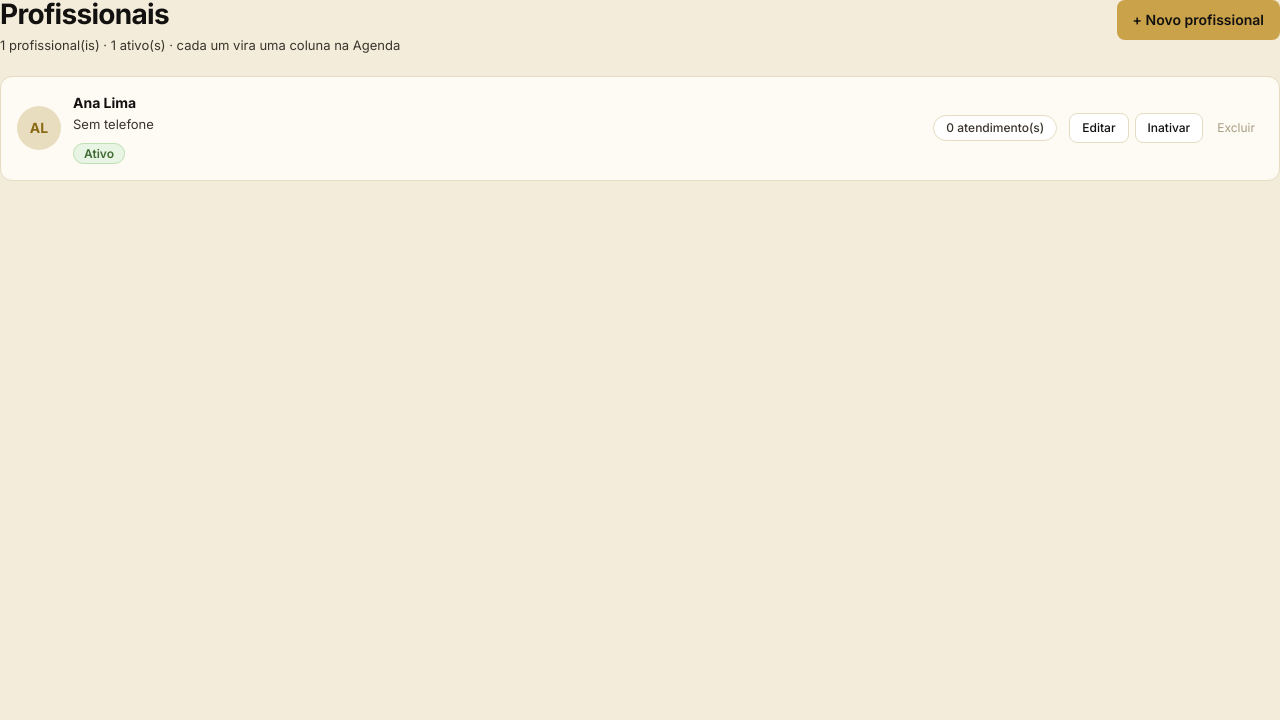
Test: Exclusão de profissional — ID exato e configuração de comissão › profissional com configuração de comissão não é excluído
The image size is (1280, 720).
Step 1. Click the button with aria-label "Excluir Ana Lima" → (1236, 128), box [1209,113,1263,143]
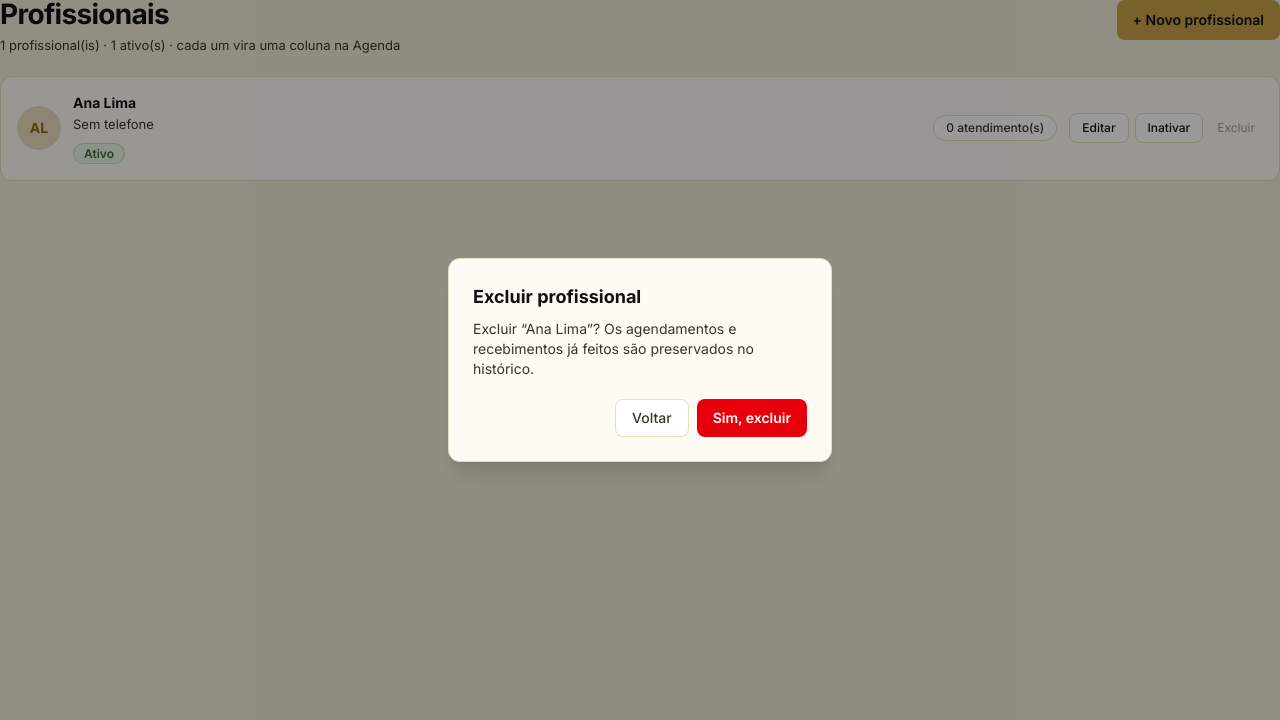
Expected: the heading "Excluir profissional" is shown, [473,286,641,307]
Step 2. Click the button "Sim, excluir" → (752, 418), box [697,399,807,437]
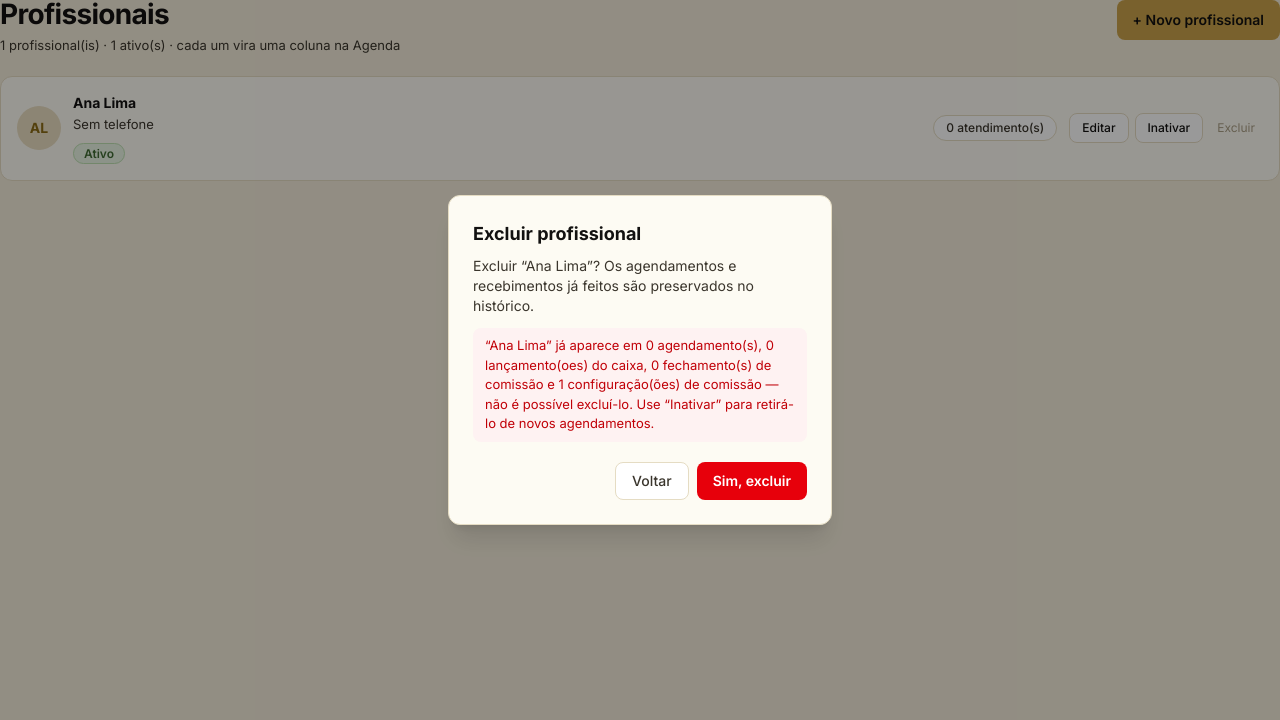
Expected: the text "já aparece em" shows "0 agendamento(s)", [485,337,794,431]
Expected: the text "já aparece em" shows "0 lançamento(oes) do caixa", [485,337,794,431]
Expected: the text "já aparece em" shows "1 configuração(ões) de comissão", [485,337,794,431]
